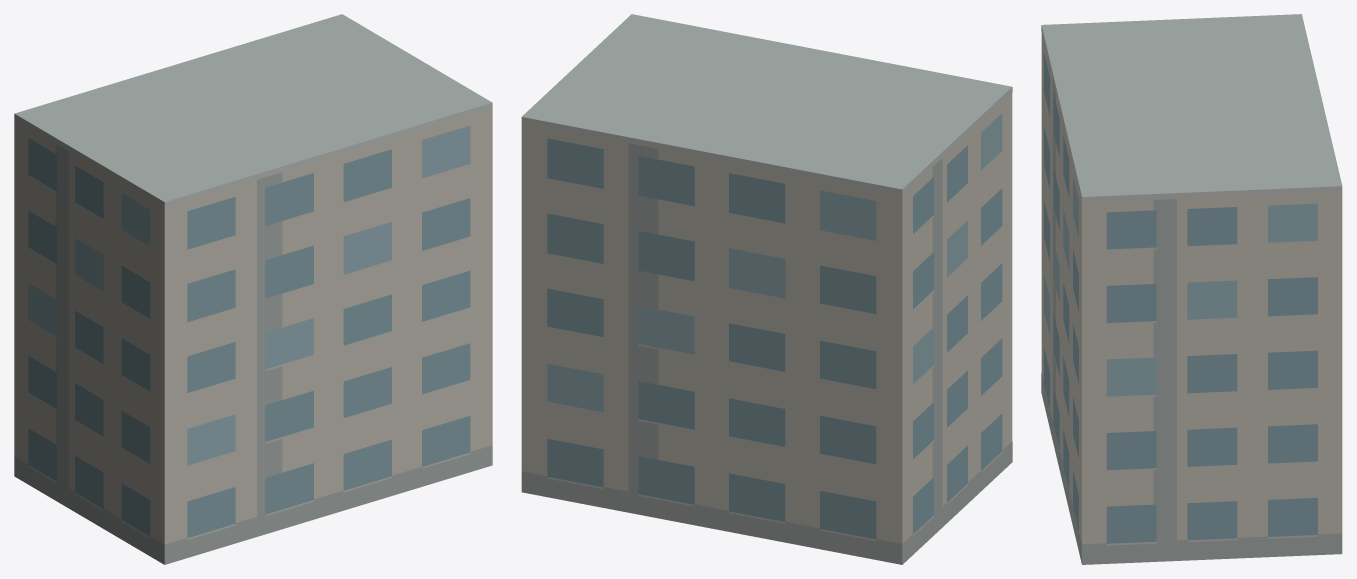
The model's file is survey-upis-33001964.glb.
The picture shows the model from 3 angles, left to right: view 1: azimuth 30°, elevation 25°; view 2: azimuth 150°, elevation 25°; view 3: azimuth 270°, elevation 25°; orthographic projection. The views are drawn at different scales.
Visible parts, largest first — view 1: survey-upis-33001964.tmp; view 2: survey-upis-33001964.tmp; view 3: survey-upis-33001964.tmp.
Boxes of the visible parts, x1,y1,x2,y2 form: survey-upis-33001964.tmp: (14, 14, 492, 564); survey-upis-33001964.tmp: (521, 14, 1012, 564); survey-upis-33001964.tmp: (1041, 14, 1342, 564).
Bounding box in the file's own units: 16.28 × 15.25 × 11.32.
